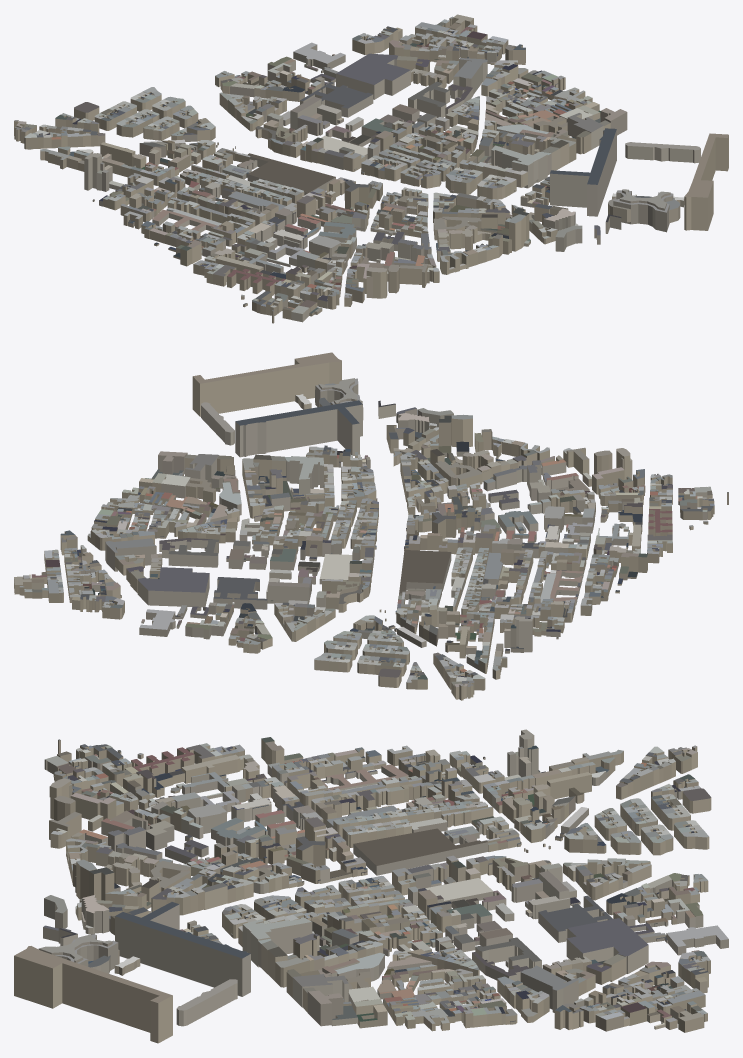
3 views of the same model, one above another, from view 1: azimuth 30°, elevation 25°; view 2: azimuth 150°, elevation 25°; view 3: azimuth 270°, elevation 25° (orthographic). The views are drawn at different scales.
Visible parts, largest first — view 1: tuile; view 2: tuile; view 3: tuile.
Part boxes in pixels (box(x1,y1,x2,y2)): tuile: box(14, 14, 728, 323); tuile: box(14, 352, 728, 700); tuile: box(14, 729, 728, 1043).
Bounding box in the file's own units: 1086 × 95.64 × 1103.
